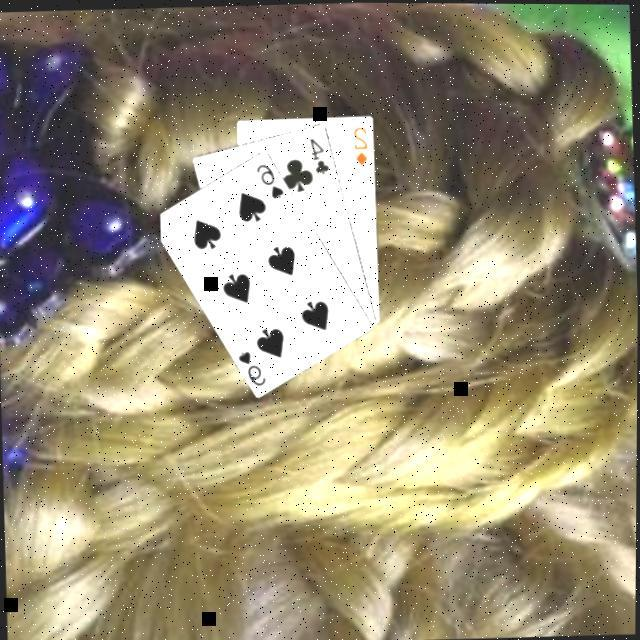2D: (348, 123, 370, 168)
4C: (304, 134, 330, 177)
6S: (251, 159, 285, 202), (233, 346, 267, 389)
